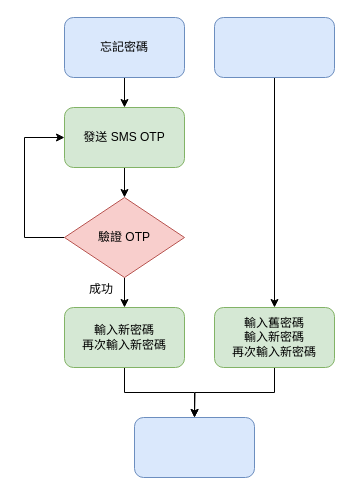
Some shapes in this 352 by 495 pixel diagram are drawn without their labels. The box of each missing label's shape, as (x1, y1, x2, y2) in pixels:
修改完成: (134, 416, 254, 478)
進入修改密碼: (214, 16, 334, 78)
